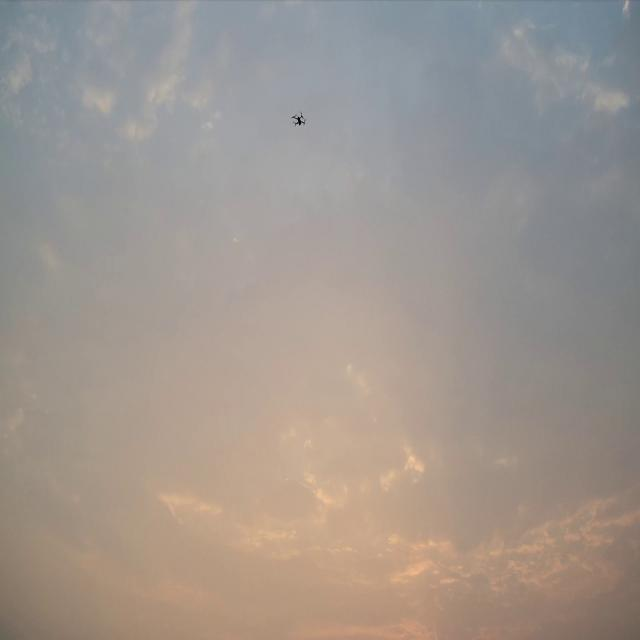drone: (291, 111, 306, 126)
